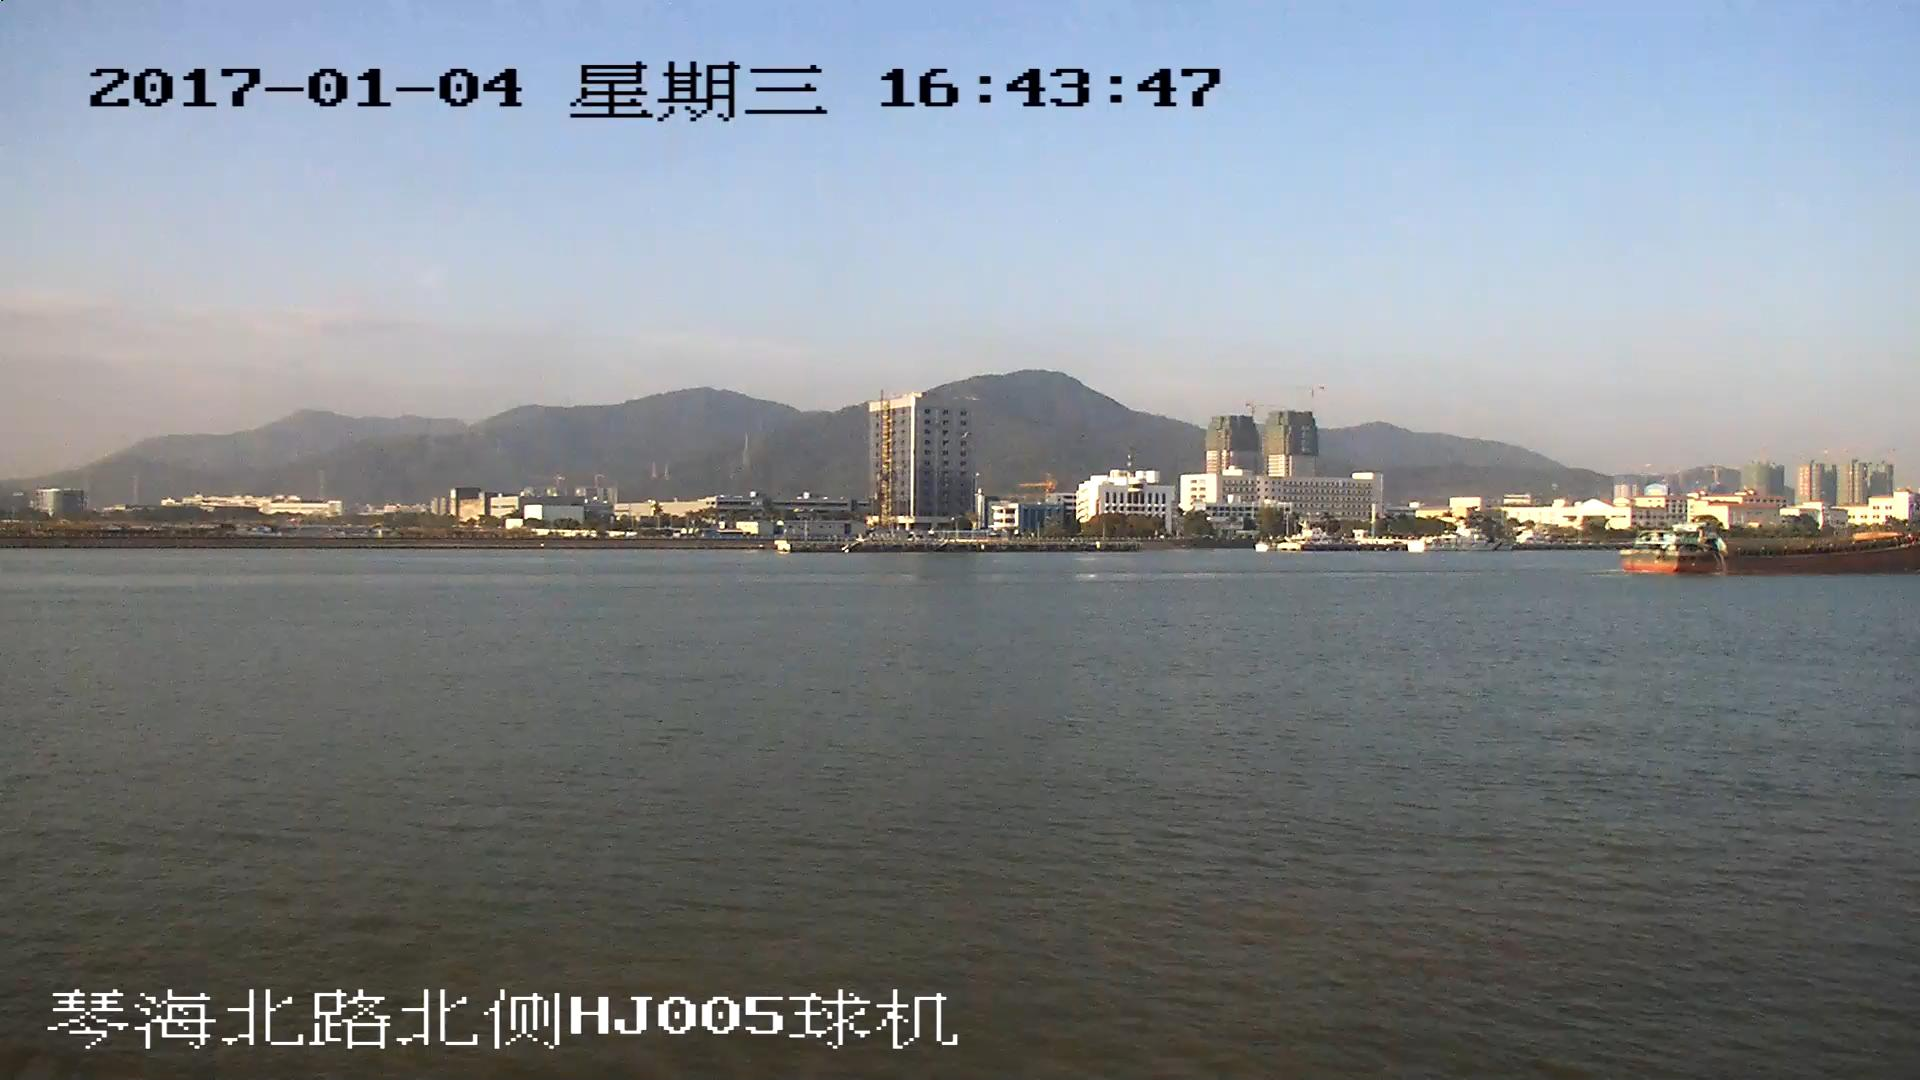bulk cargo carrier: (1622, 522, 1920, 575)
